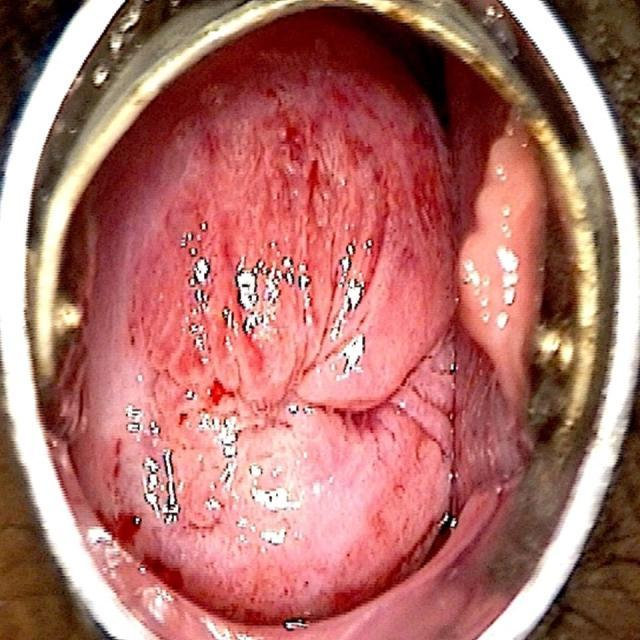cervical_lesion: (71, 110, 549, 640)
